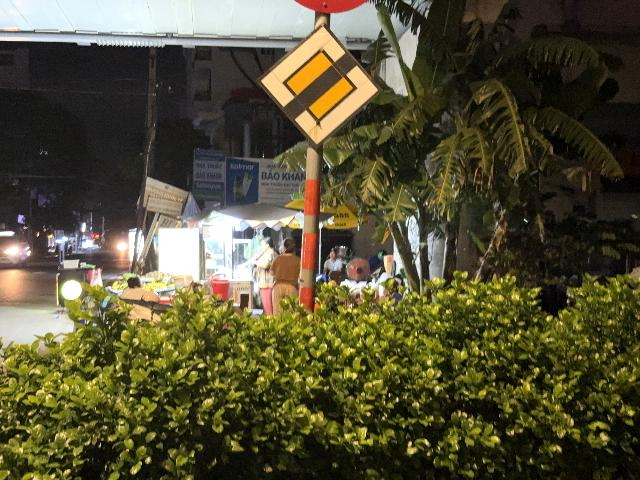het-duong-uu-tien: (255, 22, 383, 150)
